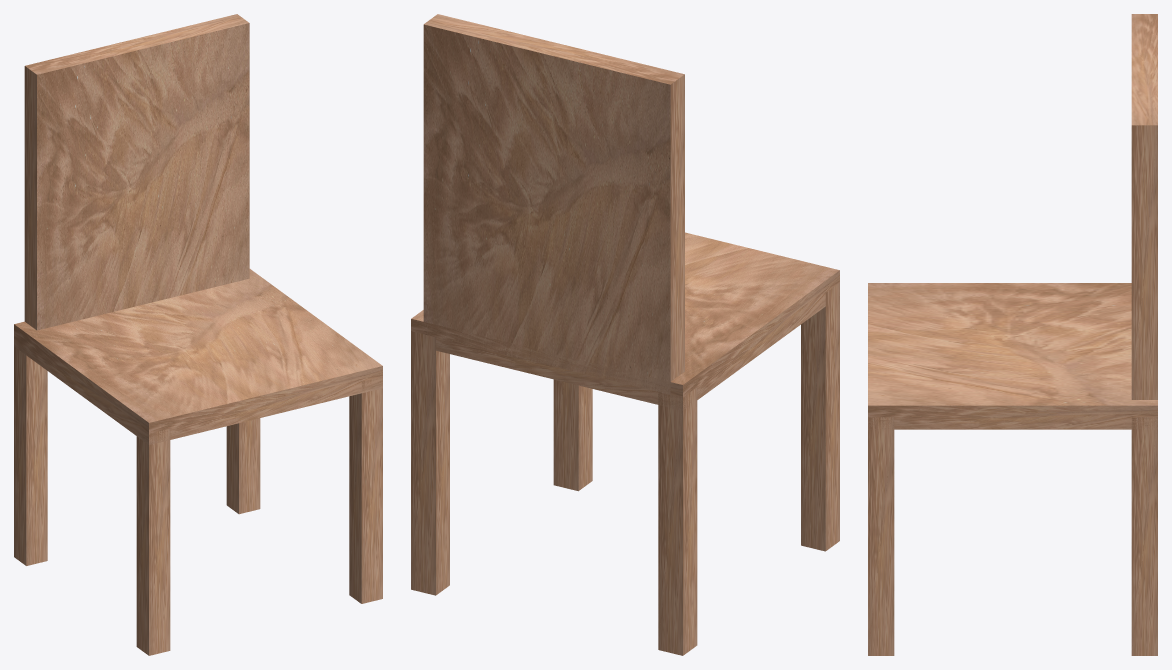
File: chair1.glb
The picture shows the model from 3 angles, left to right: view 1: azimuth 30°, elevation 25°; view 2: azimuth 150°, elevation 25°; view 3: azimuth 270°, elevation 25°; orthographic projection. The views are drawn at different scales.
Parts seen in each view (by area): view 1: Box (×6); view 2: Box (×6); view 3: Box (×4).
Boxes of the visible parts, bbox=[...] form: Box (×6): bbox=[14, 14, 382, 655]; Box (×6): bbox=[411, 14, 839, 655]; Box (×4): bbox=[868, 14, 1157, 655].
Size of the model in its own units: 1.1 by 2.2 by 1.1.
1 material, 1 textured.
